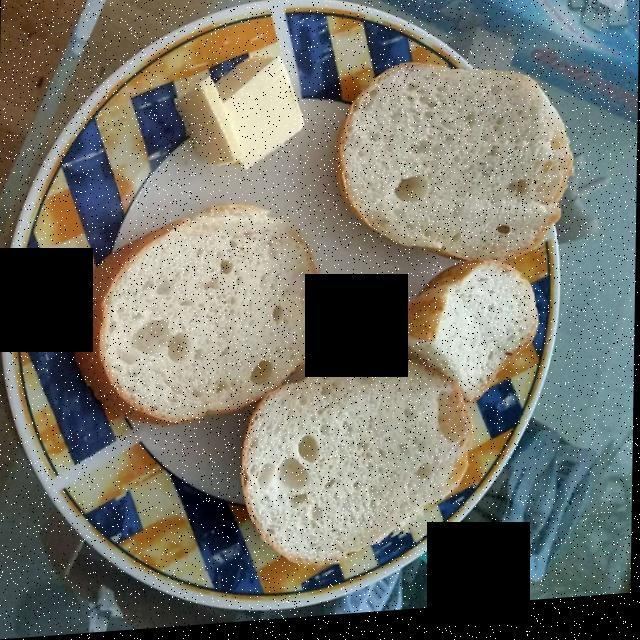bread: (71, 75, 569, 579)
butter: (178, 60, 300, 171)
